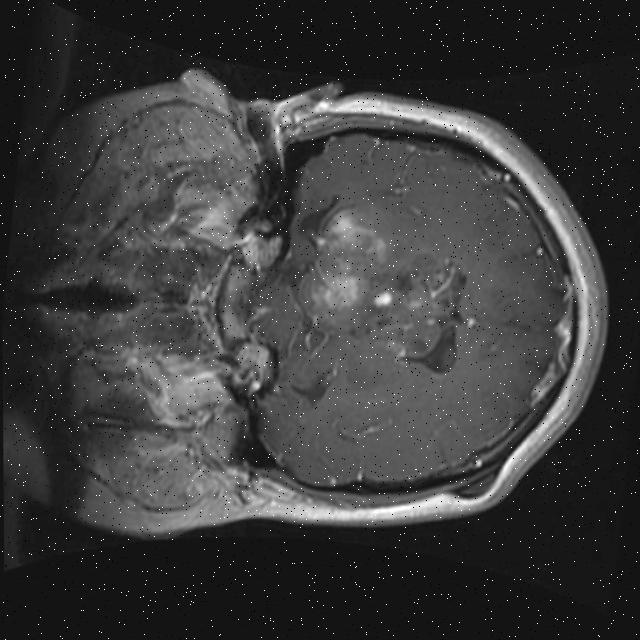Glioma: (303, 202, 390, 331), (388, 249, 472, 330)
Pituitary: (216, 261, 254, 341)
